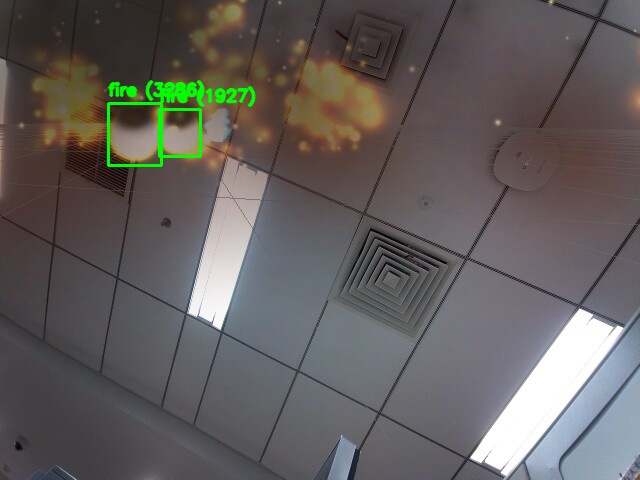fire: (108, 103, 161, 165), (159, 109, 200, 156)
